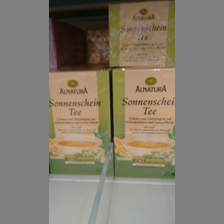tea: (112, 68, 174, 180), (50, 69, 111, 178), (108, 3, 174, 67)
